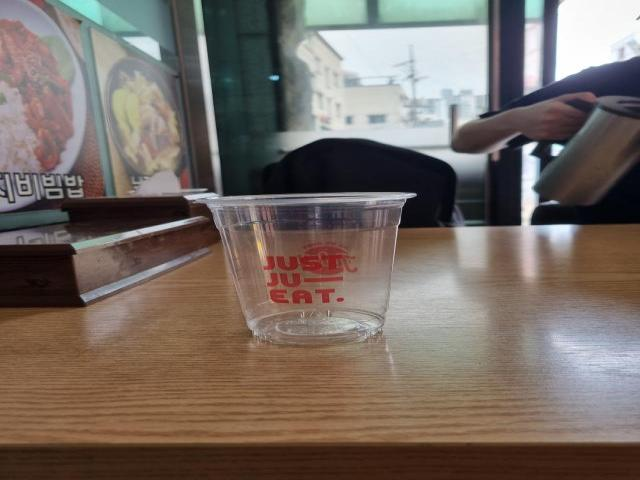cup: (178, 188, 428, 350)
